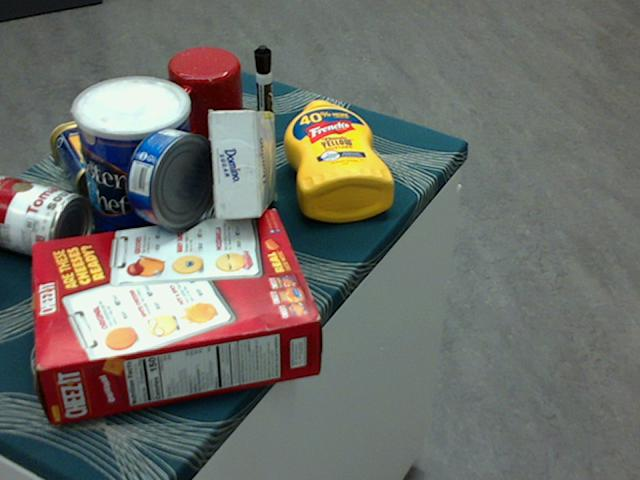cracker_box: (34, 208, 321, 423)
large_marker: (254, 45, 273, 149)
master_chef_can: (73, 78, 196, 261)
mug: (166, 48, 248, 146)
mustard_bottle: (283, 99, 394, 221)
potted_meat_can: (50, 110, 169, 205)
sugar_box: (212, 110, 273, 220)
tomato_soup_can: (0, 172, 92, 263)
tuna_fish_can: (125, 127, 220, 230)
